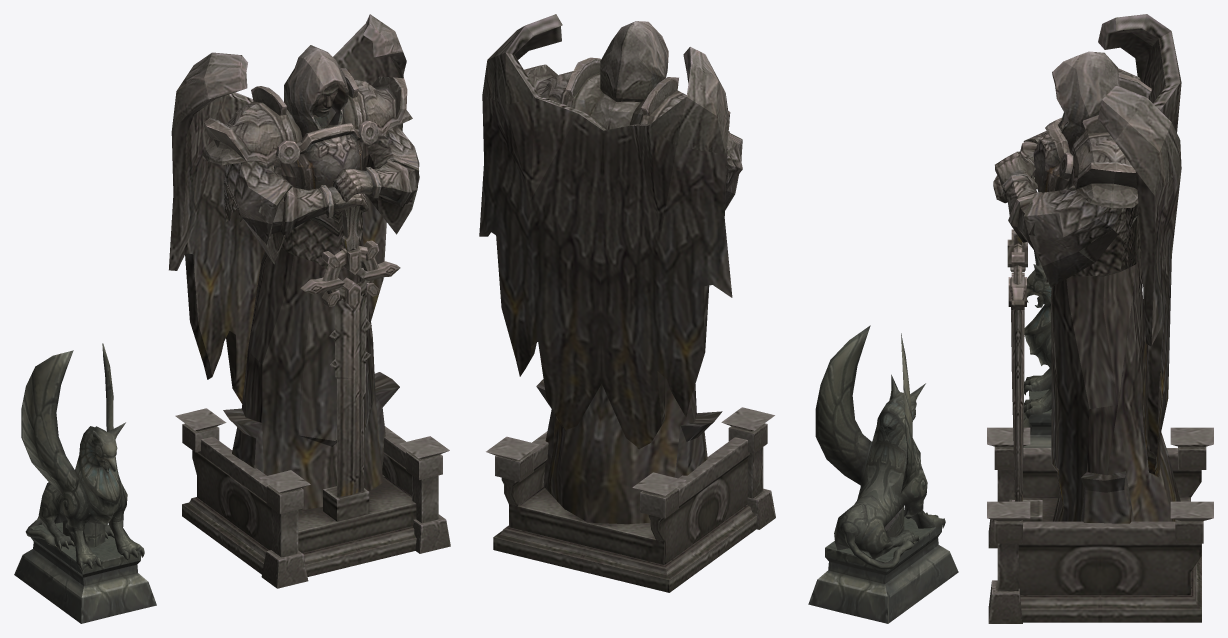
The model's file is d_1156_statue.FBX.
3 views of the same model, side by side, from view 1: azimuth 30°, elevation 25°; view 2: azimuth 150°, elevation 25°; view 3: azimuth 270°, elevation 25° (orthographic). The views are drawn at different scales.
Visible parts, largest first — view 1: d_1156_statue01, d_1156_statue02; view 2: d_1156_statue01, d_1156_statue02; view 3: d_1156_statue01, d_1156_statue02.
Boxes of the visible parts, x1=… form: d_1156_statue01: x1=169, y1=14, x2=450, y2=588; d_1156_statue02: x1=14, y1=343, x2=156, y2=623; d_1156_statue01: x1=479, y1=14, x2=775, y2=592; d_1156_statue02: x1=808, y1=325, x2=958, y2=623; d_1156_statue01: x1=987, y1=14, x2=1213, y2=623; d_1156_statue02: x1=1023, y1=251, x2=1051, y2=447.
Size of the model in its own units: 762 by 888 by 346.
2 materials, 2 textured.
